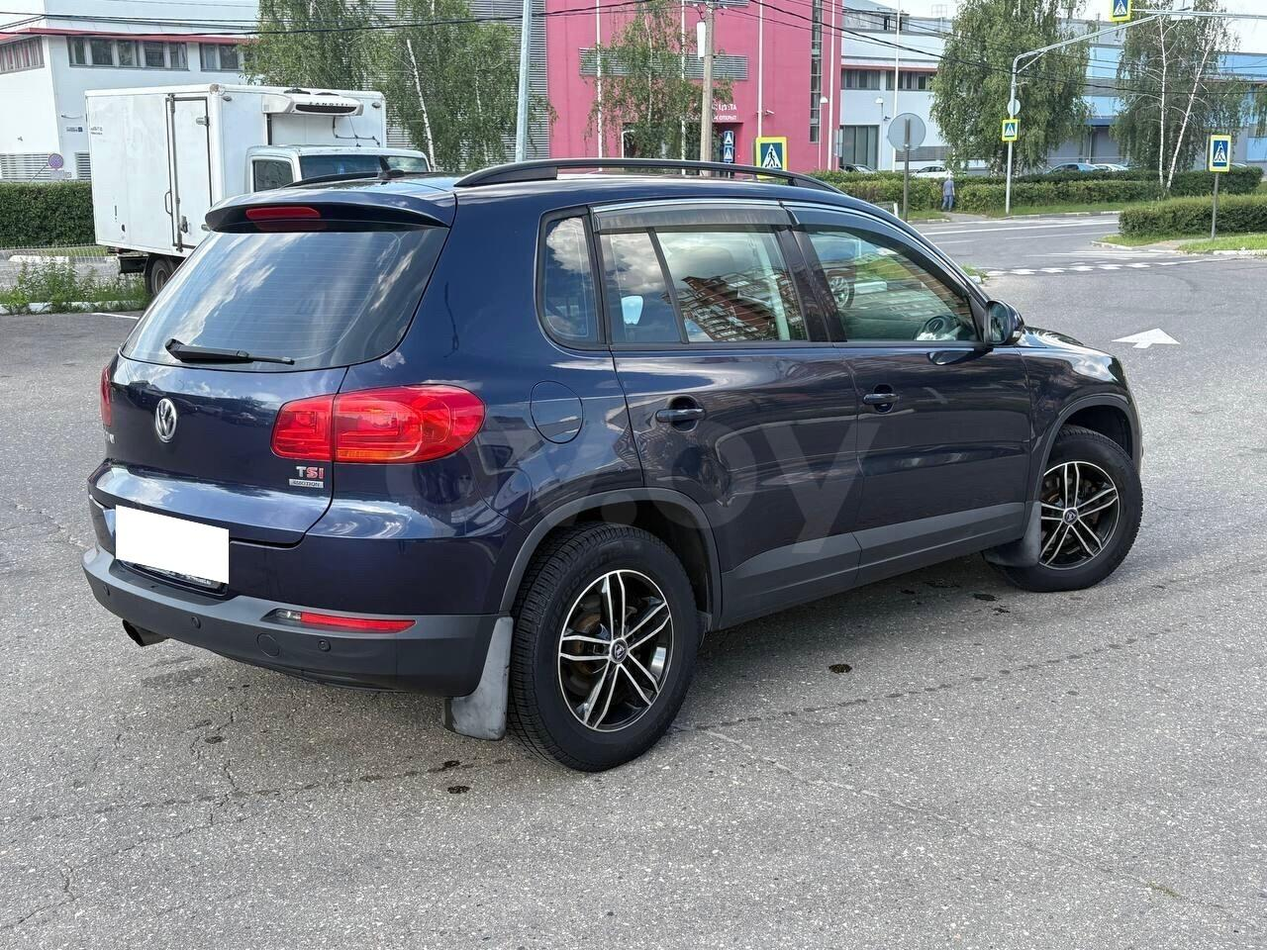Tiguan_2011-2018: (82, 166, 1148, 772)
